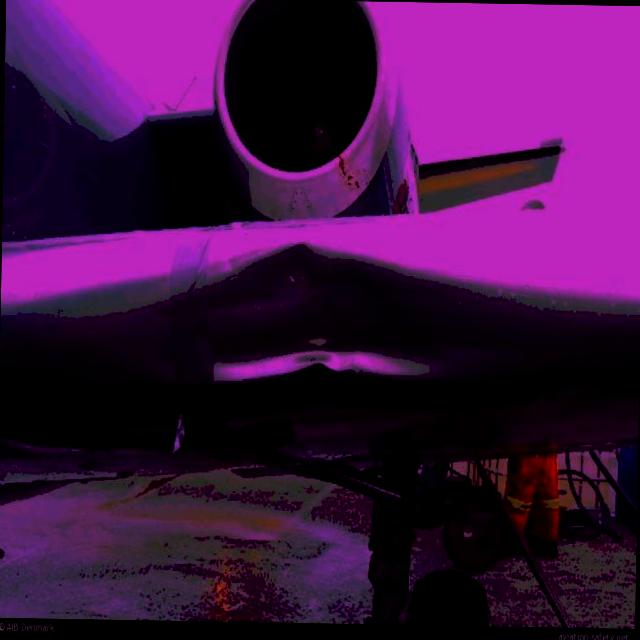dent: (153, 259, 491, 389)
